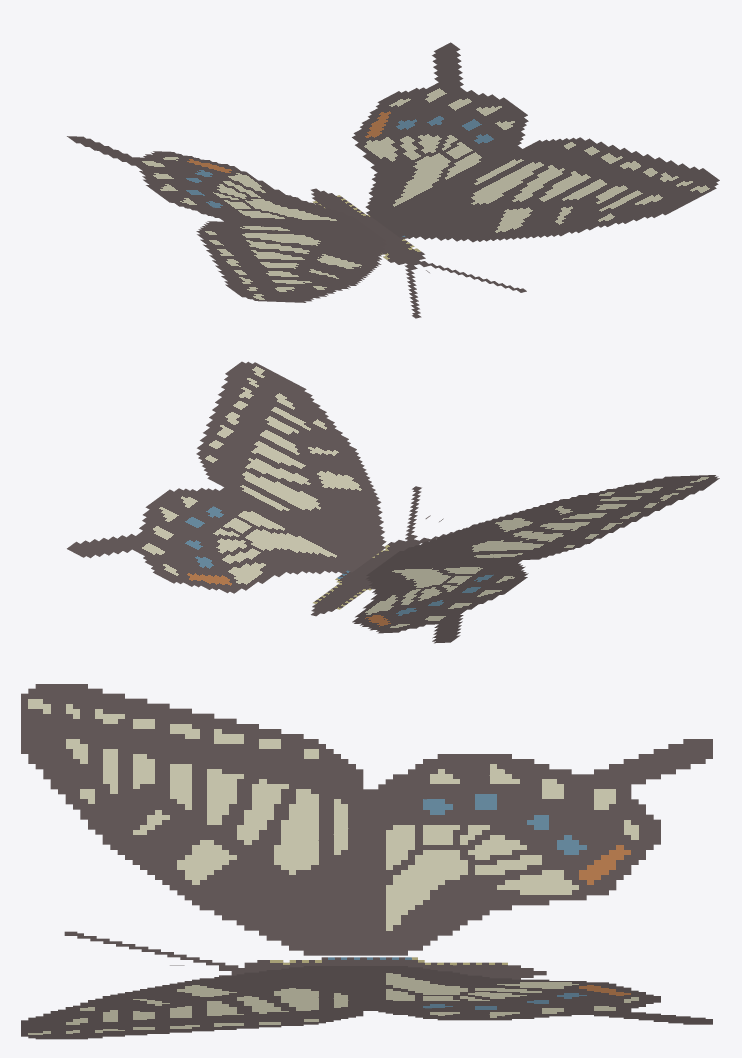
The model's file is 0401_Swallowtail.glb.
The picture shows the model from 3 angles, top to bottom: view 1: azimuth 30°, elevation 25°; view 2: azimuth 150°, elevation 25°; view 3: azimuth 270°, elevation 25°; orthographic projection. The views are drawn at different scales.
Visible parts, largest first — view 1: part_0; view 2: part_0; view 3: part_0.
Boxes of the visible parts, bbox=[...] form: part_0: bbox=[67, 42, 719, 318]; part_0: bbox=[67, 361, 719, 643]; part_0: bbox=[21, 684, 712, 1039].
Bounding box in the file's own units: 0.1098 × 0.0176 × 0.093.
1 material, 1 textured.
